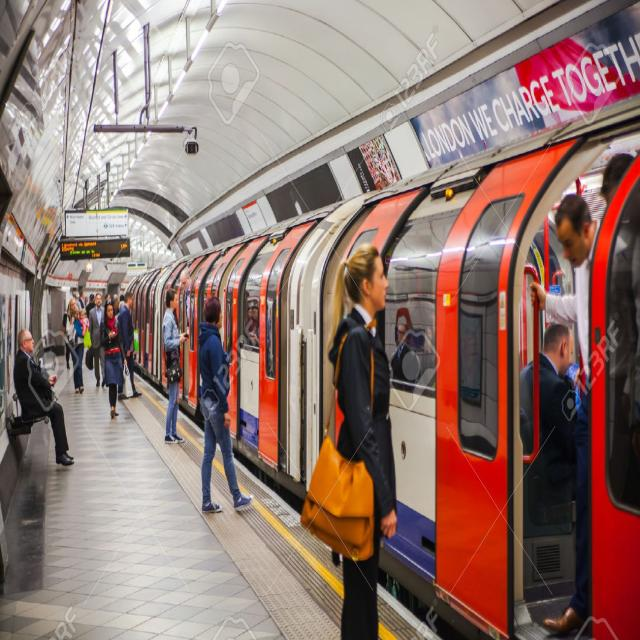body: (527, 190, 602, 640), (324, 242, 398, 640), (598, 151, 640, 520), (197, 294, 255, 514), (518, 320, 578, 510), (11, 325, 76, 468), (160, 286, 190, 446), (98, 302, 128, 421), (387, 314, 425, 392), (117, 290, 142, 402), (64, 288, 126, 318), (88, 292, 106, 388), (70, 300, 86, 395), (66, 298, 80, 372), (241, 298, 260, 352), (61, 300, 73, 370), (78, 308, 90, 348)
